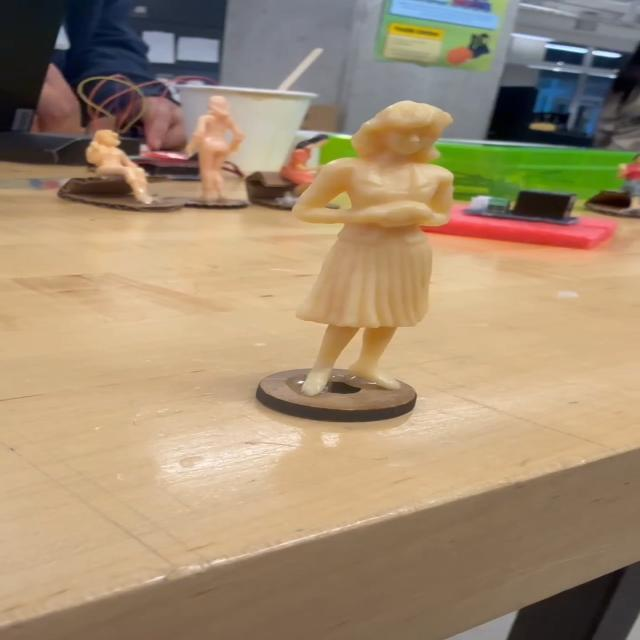Unauthorized: (293, 101, 457, 394)
